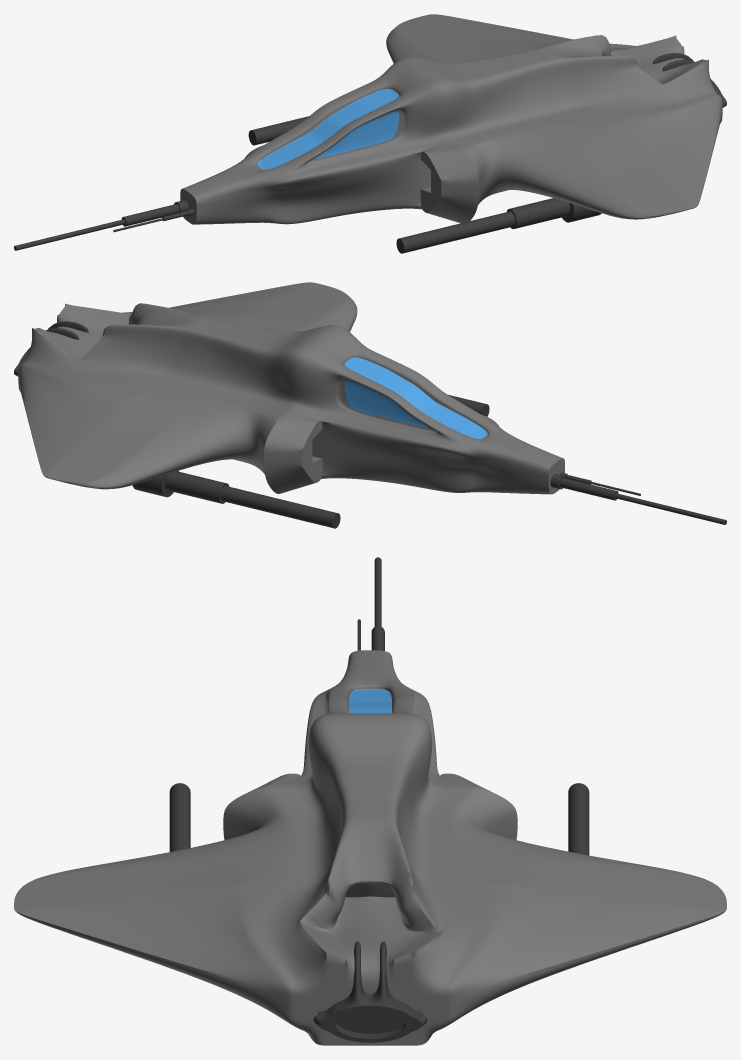
The model's file is ship.fbx.
3 renders of one model, top to bottom at view 1: azimuth 30°, elevation 25°; view 2: azimuth 150°, elevation 25°; view 3: azimuth 270°, elevation 25°, orthographic. The views are drawn at different scales.
Parts seen in each view (by area): view 1: Cylinder; view 2: Cylinder; view 3: Cylinder.
Boxes of the visible parts, x1,y1,x2,y2 form: Cylinder: (14,14,726,253); Cylinder: (14,282,726,528); Cylinder: (14,557,726,1045).
Bounding box in the file's own units: 1217 × 214 × 808.
